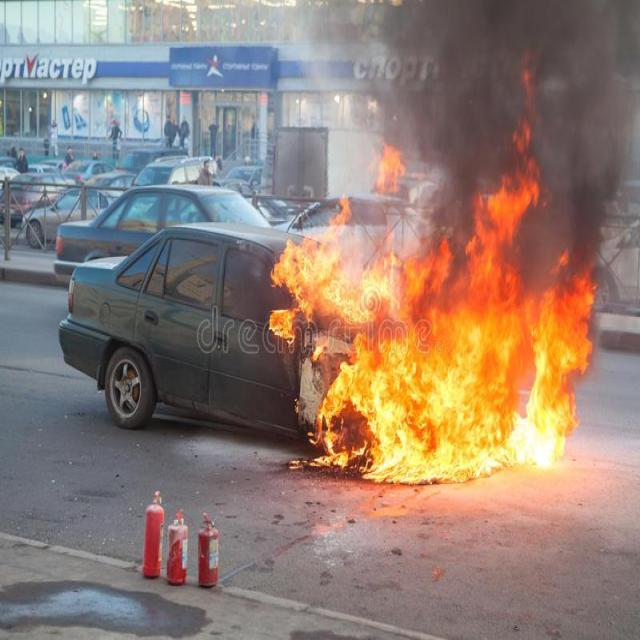fire_extinguisher: (140, 489, 165, 581), (164, 507, 190, 586), (196, 508, 220, 588)
